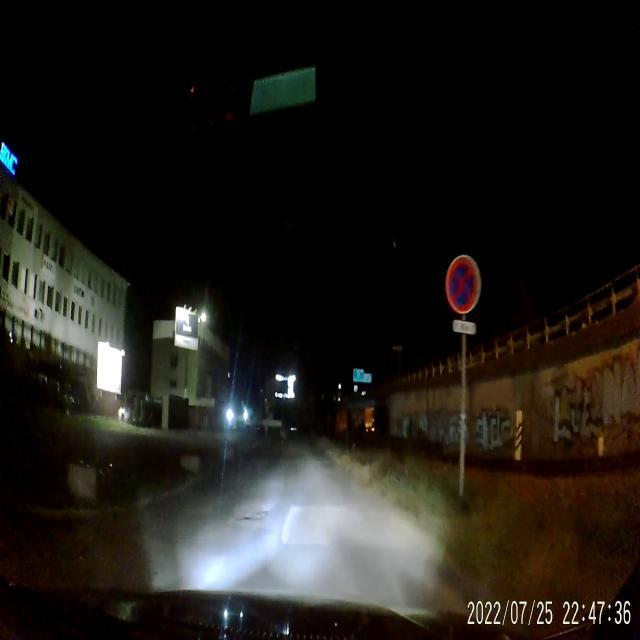Pothole: (236, 502, 272, 526)
